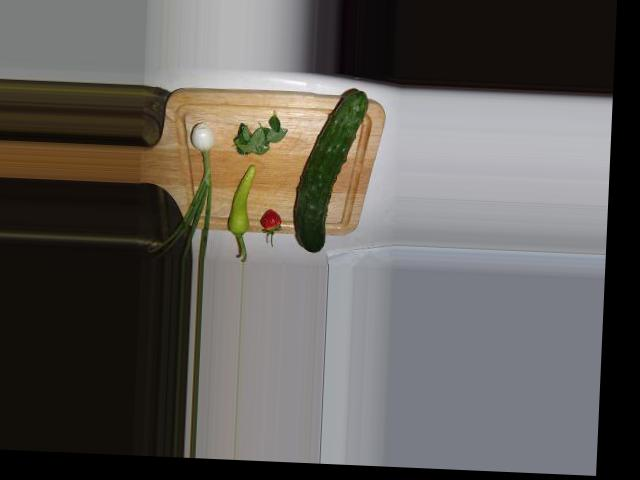cucumber: (293, 87, 369, 253)
